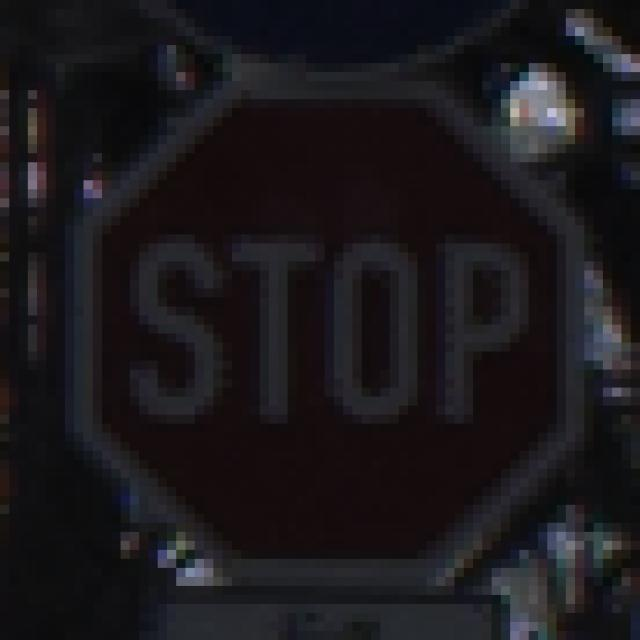STOP: (57, 64, 585, 587)
